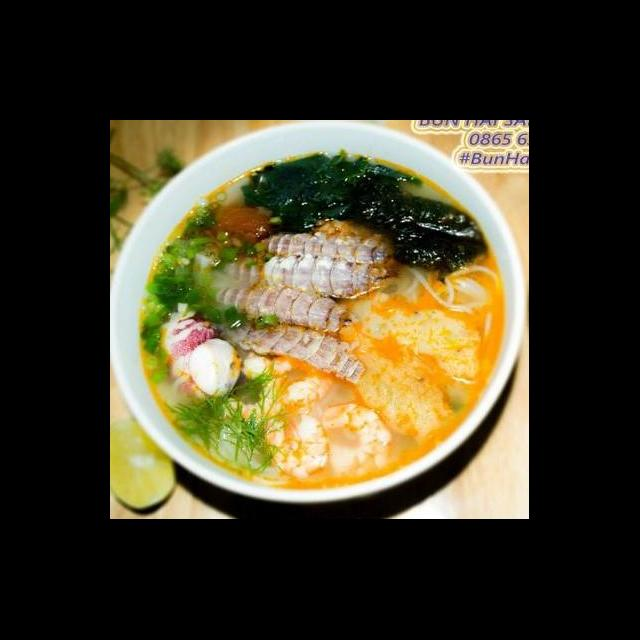bun: (388, 255, 502, 344)
bun hai san: (128, 155, 526, 520)
muc: (152, 299, 245, 406)
tom tit: (192, 250, 396, 306), (216, 314, 368, 388), (202, 280, 358, 338), (243, 230, 398, 276)
